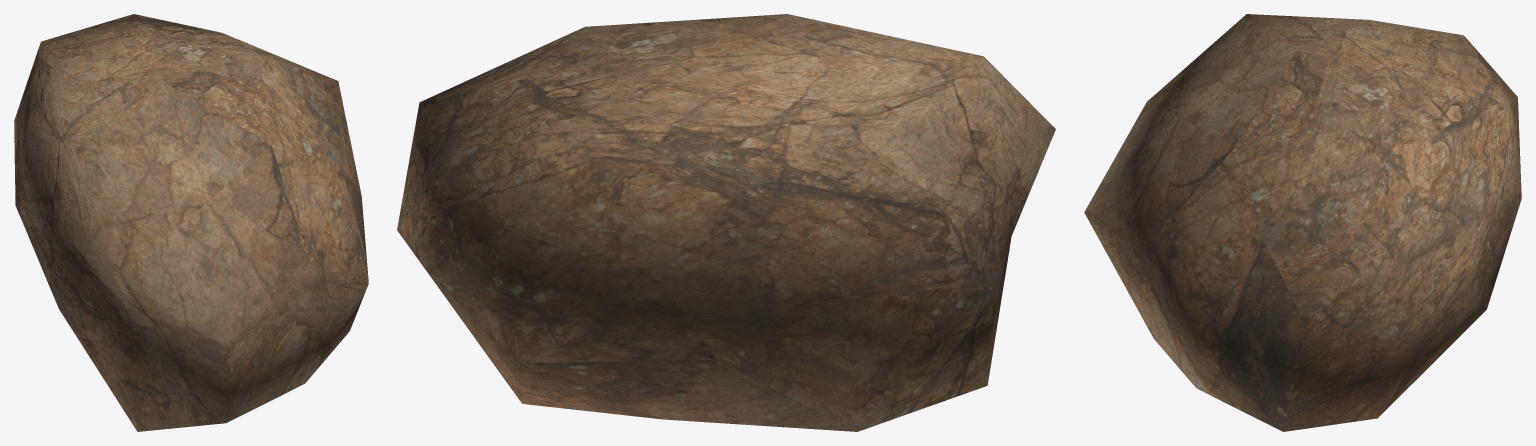
Rendered from stone_1.glb.
3 renders of one model, left to right at view 1: azimuth 30°, elevation 25°; view 2: azimuth 150°, elevation 25°; view 3: azimuth 270°, elevation 25°, orthographic. The views are drawn at different scales.
Visible parts, largest first — view 1: StoneA; view 2: StoneA; view 3: StoneA.
Part boxes in pixels (box(x1,y1,x2,y2)): StoneA: box(14, 14, 368, 431); StoneA: box(397, 14, 1055, 431); StoneA: box(1084, 14, 1521, 431).
Bounding box in the file's own units: 0.4014 × 0.3044 × 0.413.
Materials: 1 (1 with a texture image).
